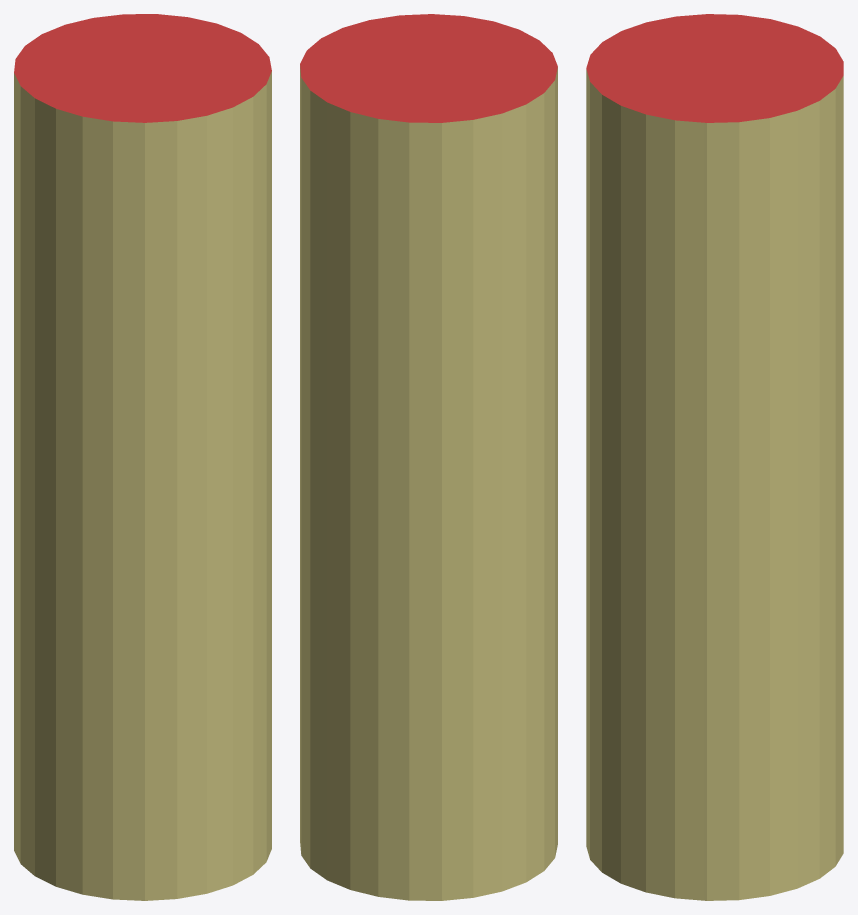
The picture shows the model from 3 angles, left to right: view 1: azimuth 30°, elevation 25°; view 2: azimuth 150°, elevation 25°; view 3: azimuth 270°, elevation 25°; orthographic projection.
Size of the model in its own units: 3.14 by 3.14 by 10.46.
